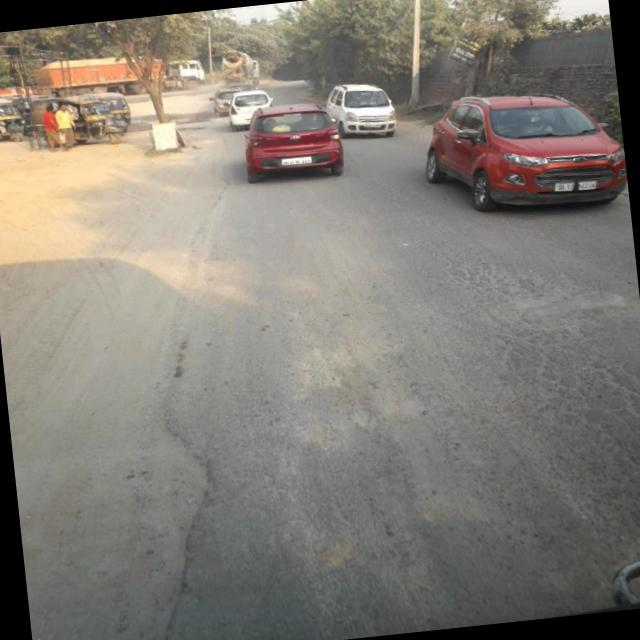crack: (233, 206, 640, 634)
